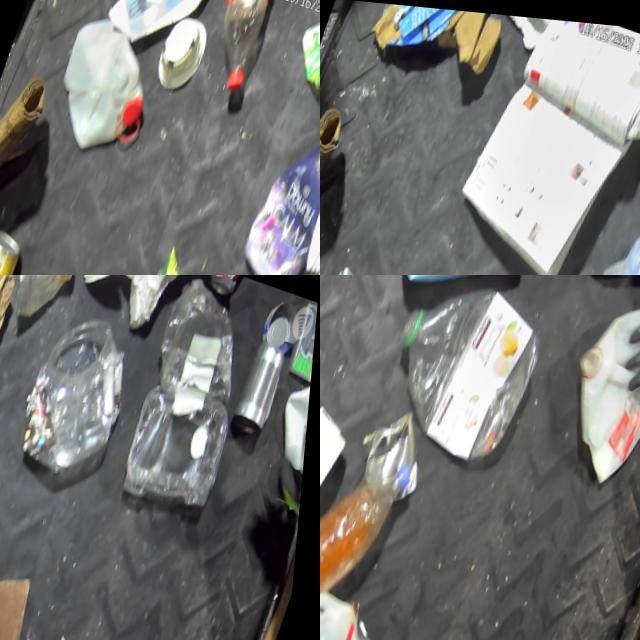can: (117, 235, 225, 275), (0, 215, 36, 275)
milk_jug: (40, 0, 176, 165), (551, 276, 640, 477), (320, 568, 404, 640)
non_white_jug: (233, 60, 320, 275)
plastic_bottle: (185, 0, 280, 108)
